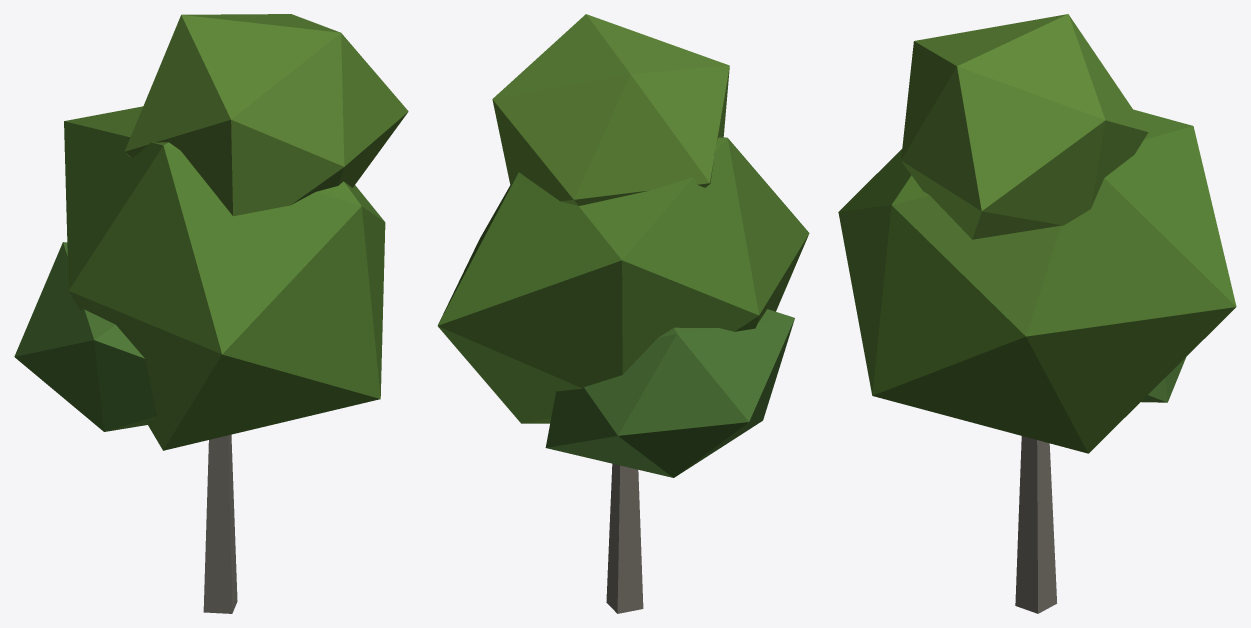
Rendered from beech_far.glb.
3 renders of one model, left to right at view 1: azimuth 30°, elevation 25°; view 2: azimuth 150°, elevation 25°; view 3: azimuth 270°, elevation 25°, orthographic. The views are drawn at different scales.
Visible parts, largest first — view 1: beech_far; view 2: beech_far; view 3: beech_far.
Boxes of the visible parts, x1,y1,x2,y2 form: beech_far: [14, 14, 408, 613]; beech_far: [437, 14, 809, 613]; beech_far: [838, 14, 1236, 613].
Bounding box in the file's own units: 6.54 × 11.07 × 6.89.
